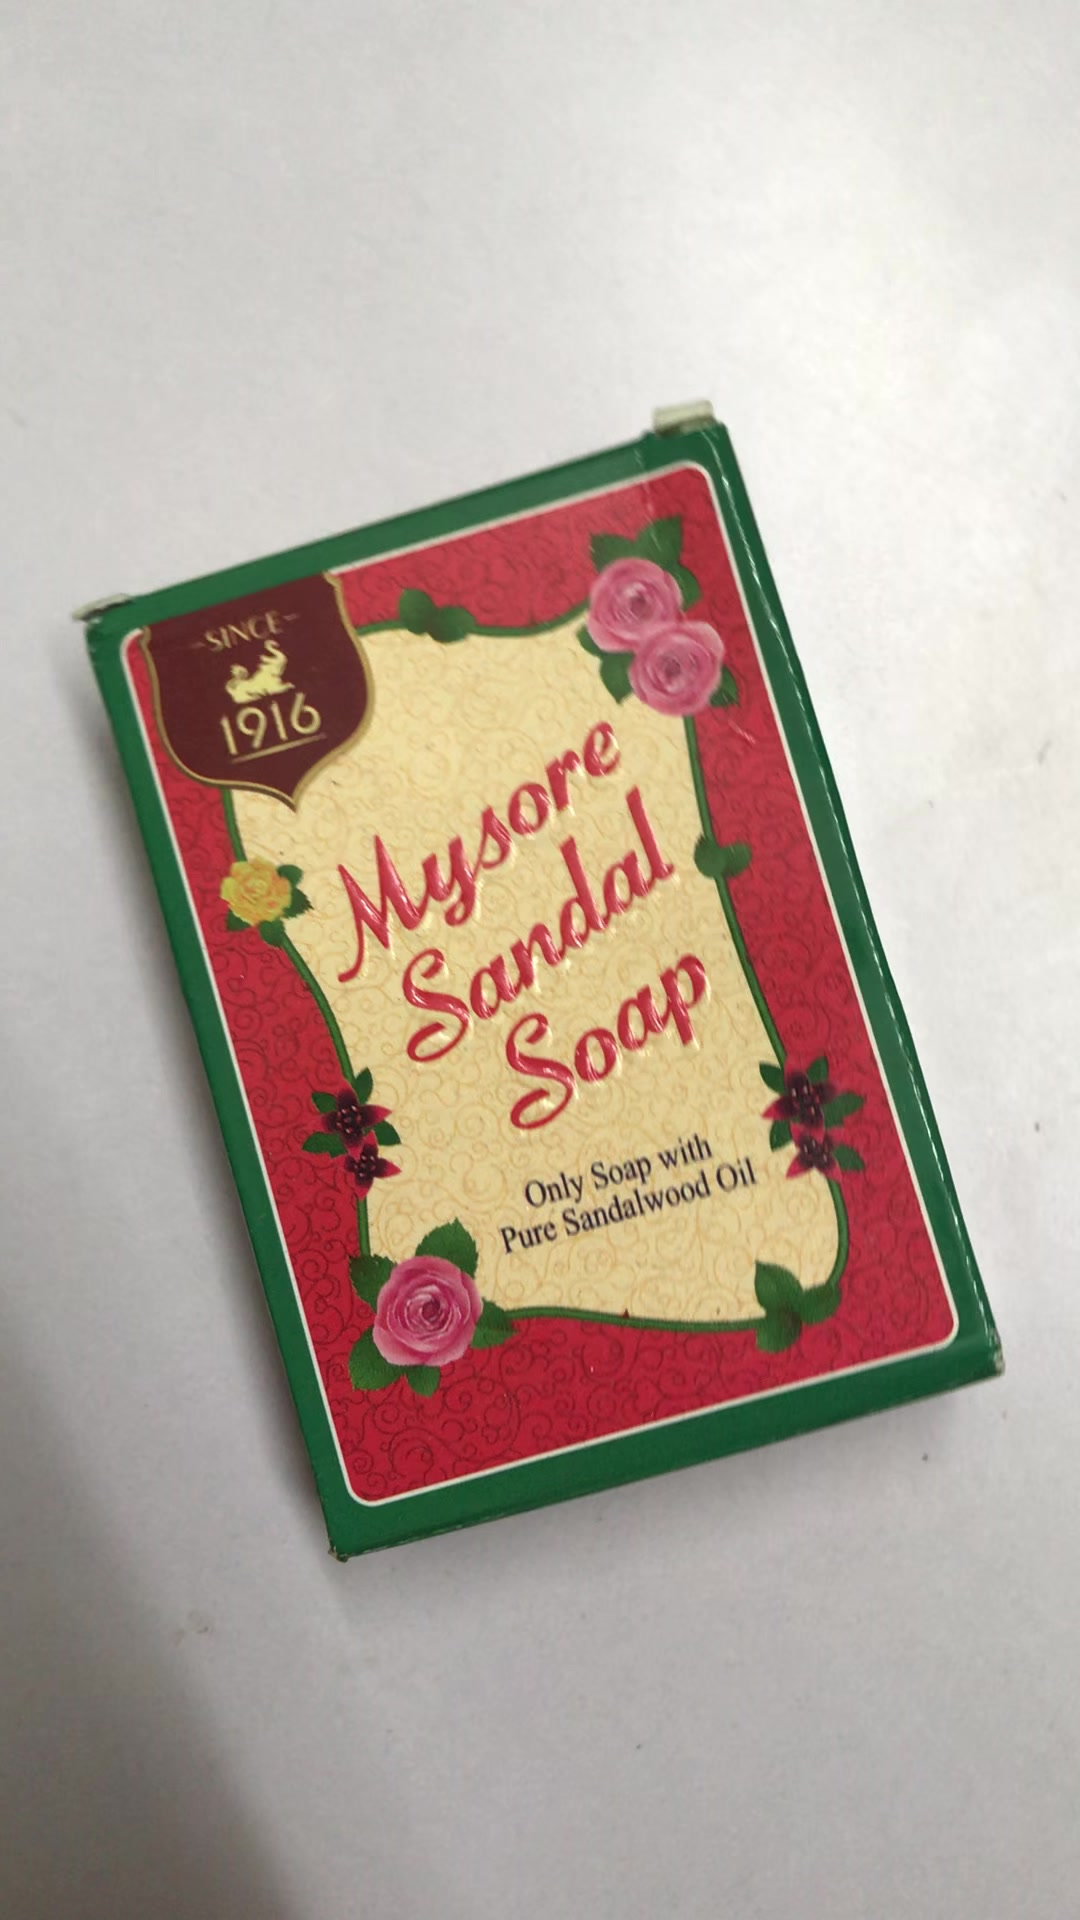mysore sandal soap: (86, 415, 1007, 1567)
